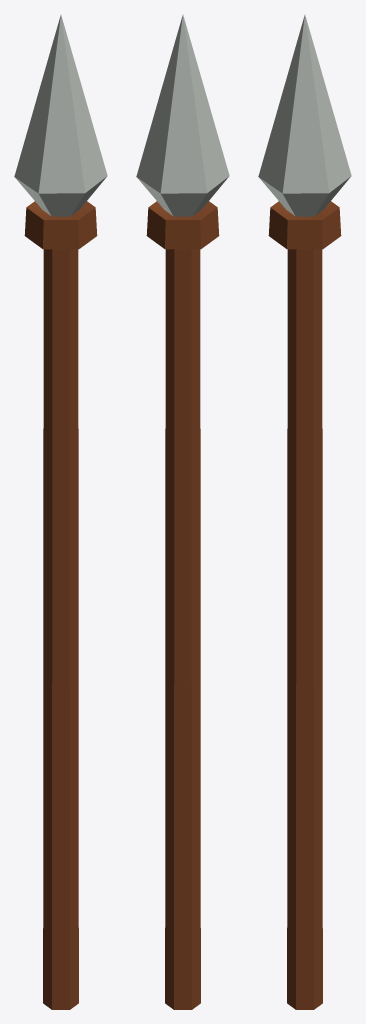
Rendered from Spear.fbx.
The picture shows the model from 3 angles, left to right: view 1: azimuth 90°, elevation 25°; view 2: azimuth 210°, elevation 25°; view 3: azimuth 270°, elevation 25°; orthographic projection.
Visible parts, largest first — view 1: Circle; view 2: Circle; view 3: Circle.
Part boxes in pixels (x1,y1,x2,y2): Circle: [14, 15, 107, 1009]; Circle: [136, 15, 229, 1009]; Circle: [258, 15, 351, 1009].
Bounding box in the file's own units: 142 × 1892 × 162.
